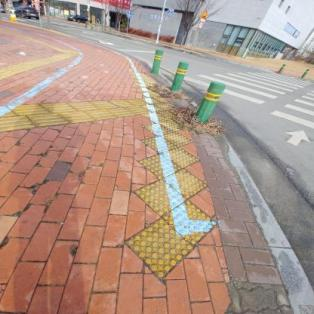Podoctatil: (120, 67, 221, 283), (0, 90, 151, 136)
